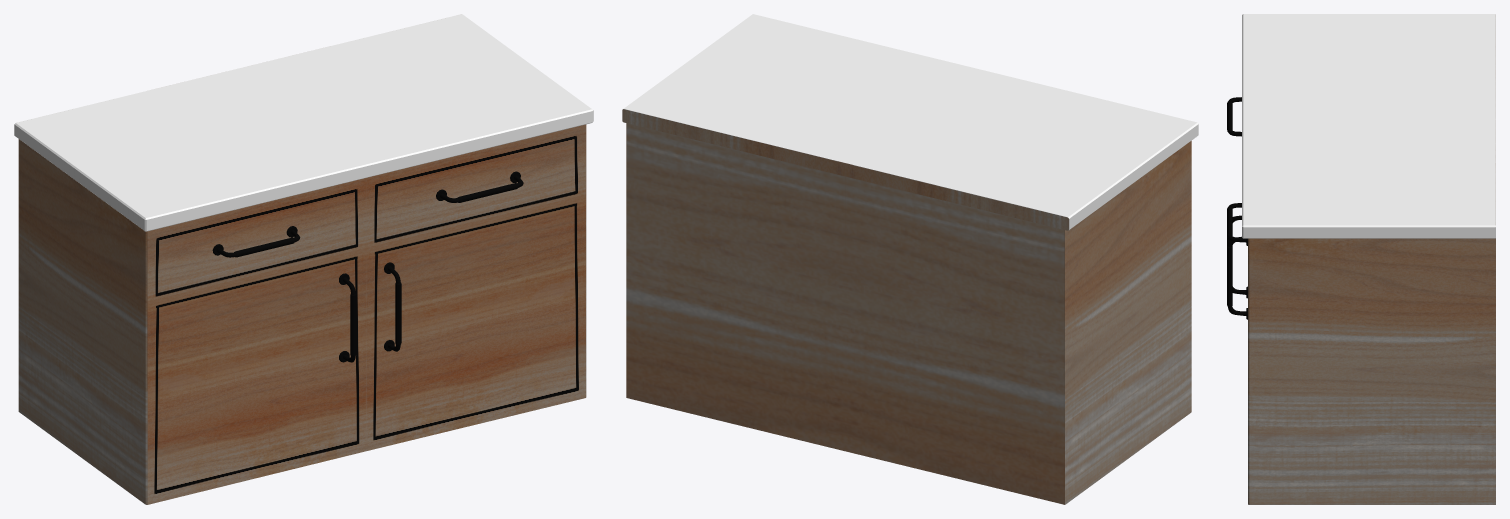
The model's file is Kchn_Cabinet_Long.fbx.
The picture shows the model from 3 angles, left to right: view 1: azimuth 30°, elevation 25°; view 2: azimuth 150°, elevation 25°; view 3: azimuth 270°, elevation 25°; orthographic projection. The views are drawn at different scales.
Visible parts, largest first — view 1: Cabinet_Type2; view 2: Cabinet_Type2; view 3: Cabinet_Type2.
Boxes of the visible parts, x1,y1,x2,y2 form: Cabinet_Type2: (14,14,593,504); Cabinet_Type2: (622,14,1198,504); Cabinet_Type2: (1227,14,1495,504).
Size of the model in its own units: 227 by 140 by 121.
